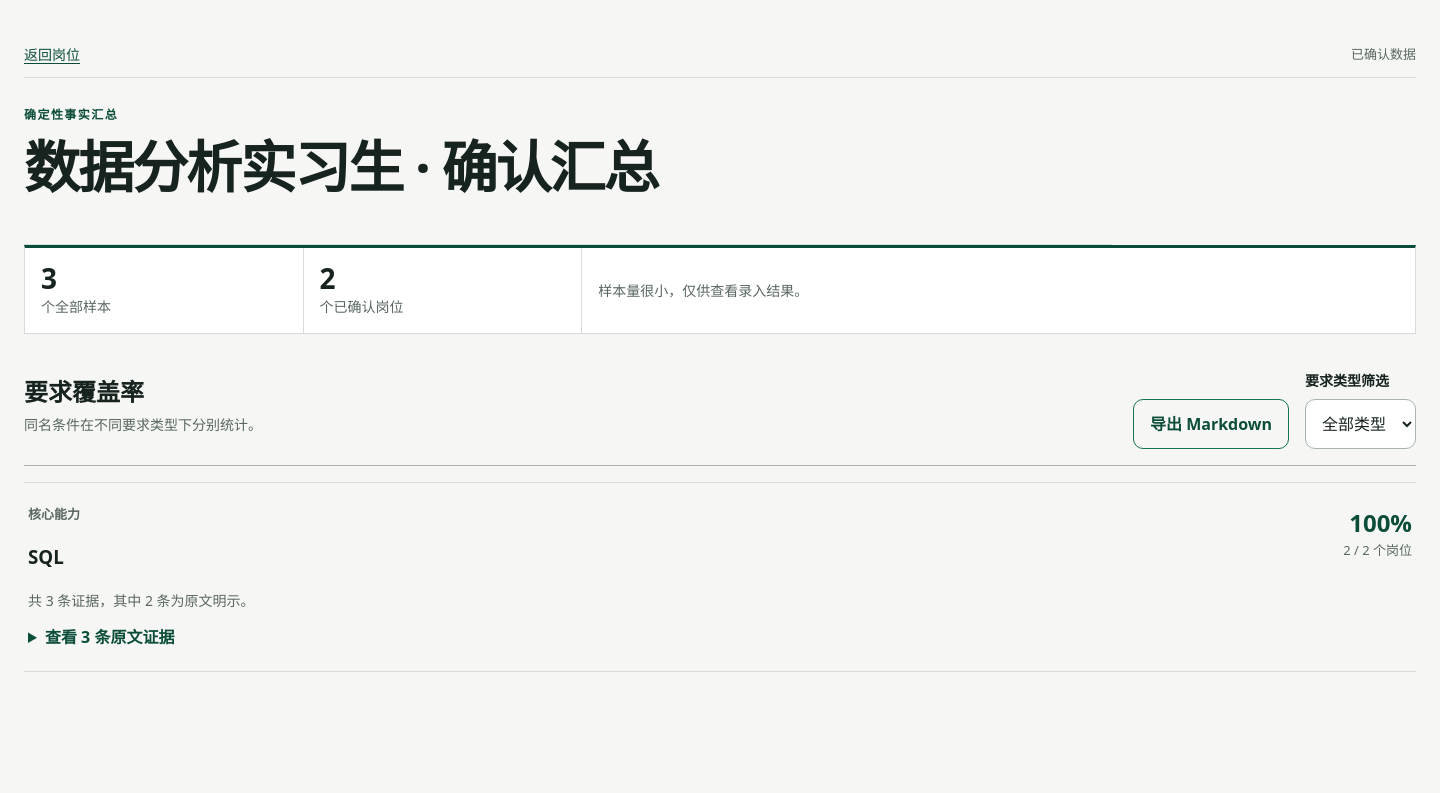
Test: SummaryDashboard › renders metrics, coverage and traceable evidence
This screenshot has width=1440, height=793.
Expected: the heading "数据分析实习生 · 确认汇总" is shown, [24,128,658,204]
Expected: the text "样本量很小，仅供查看录入结果。" is shown, [582,248,1415,334]
Click the heading "查看 3 条原文证据": point(110, 637) [45,626,174,648]
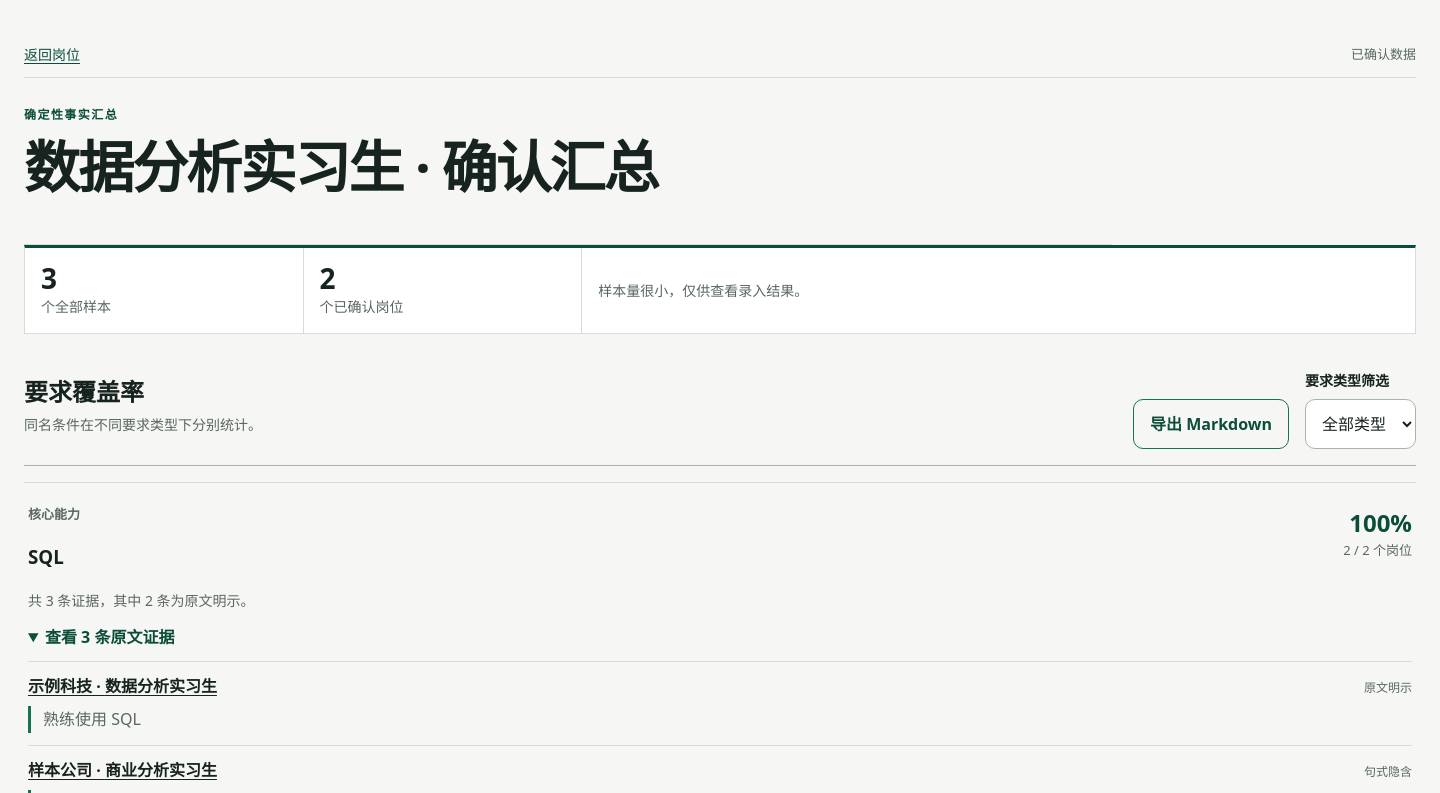
Expected: the text "熟练使用 SQL" is shown, [28,706,1412,733]
